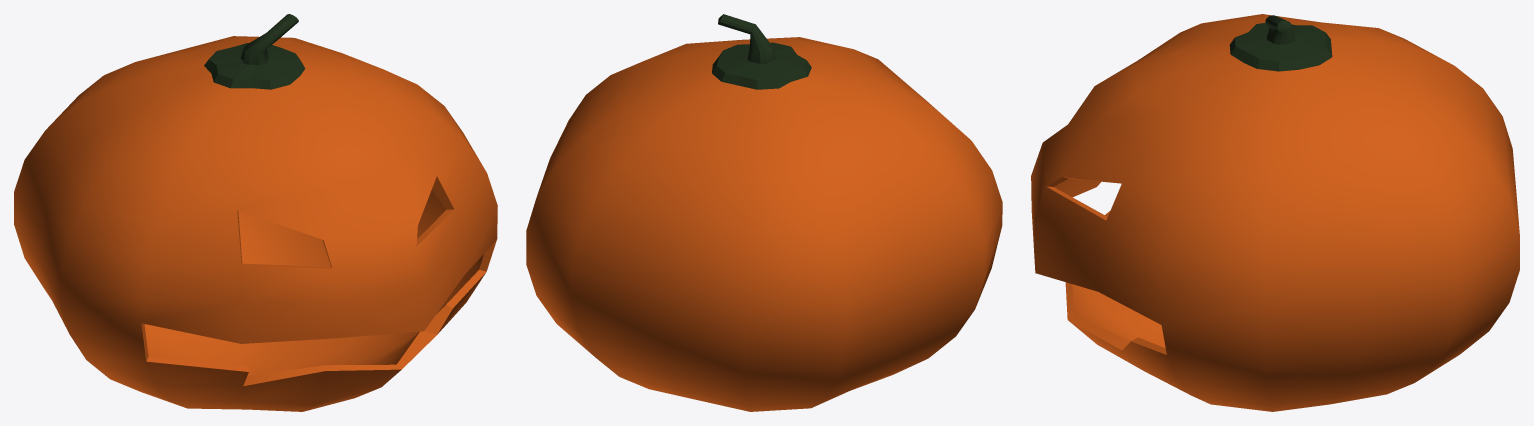
Rendered from pumpkin1.fbx.
3 renders of one model, left to right at view 1: azimuth 30°, elevation 25°; view 2: azimuth 150°, elevation 25°; view 3: azimuth 270°, elevation 25°, orthographic. The views are drawn at different scales.
Visible parts, largest first — view 1: pSphere2; view 2: pSphere2; view 3: pSphere2.
Boxes of the visible parts, x1,y1,x2,y2 form: pSphere2: (14, 14, 497, 411); pSphere2: (526, 14, 1002, 411); pSphere2: (1031, 14, 1519, 411).
Bounding box in the file's own units: 205 × 168 × 197.
